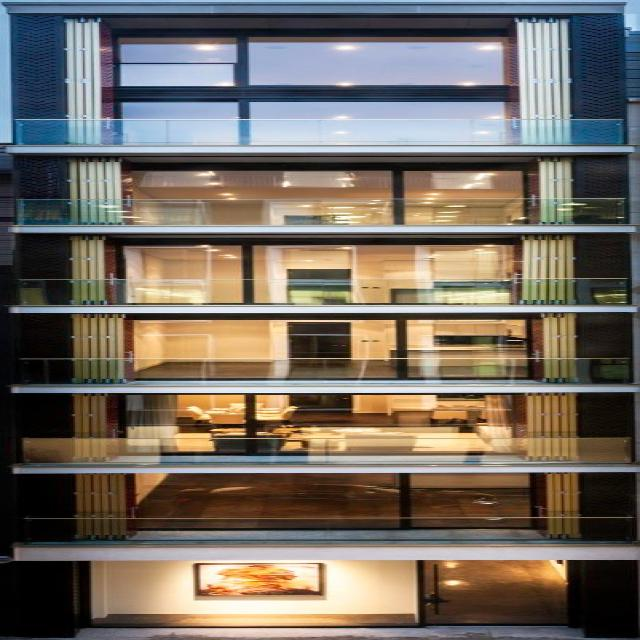door: (414, 559, 577, 626)
railing: (11, 119, 627, 145), (10, 278, 626, 304), (4, 439, 620, 465), (24, 519, 640, 545), (21, 198, 635, 224), (16, 359, 630, 385)
window: (111, 31, 522, 85), (134, 472, 550, 518), (119, 393, 517, 438), (124, 318, 530, 359), (117, 239, 519, 279), (124, 163, 529, 200), (111, 96, 510, 120)
